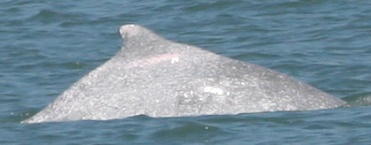fin: (13, 18, 357, 136)
